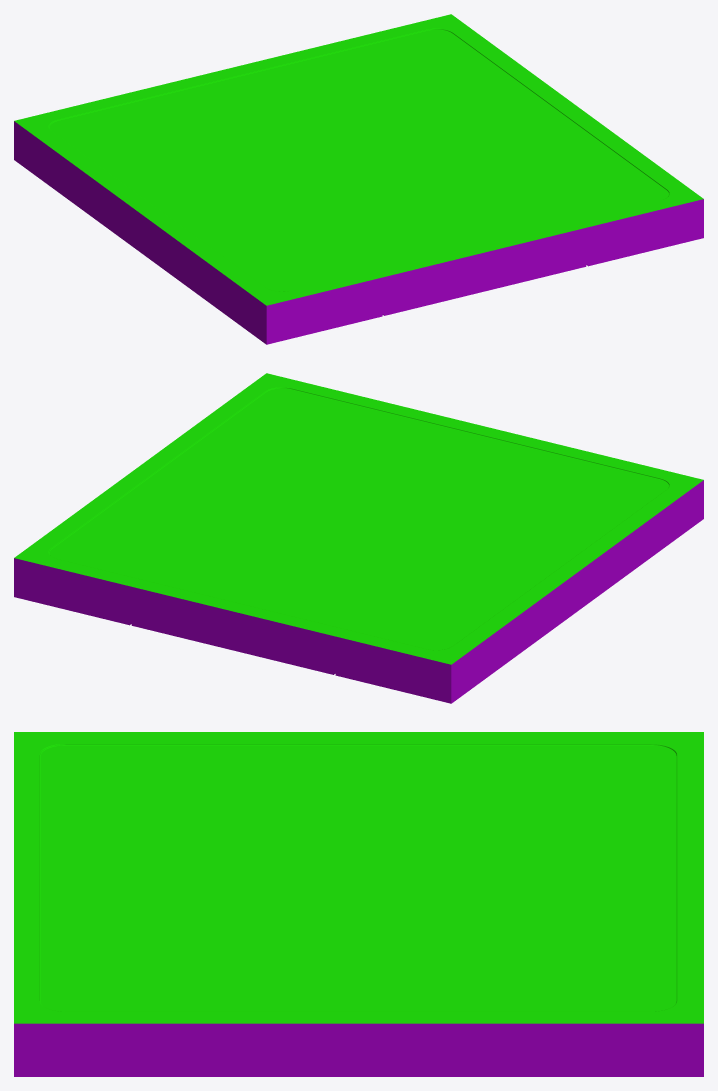
File: Floor03.fbx
3 views of the same model, one above another, from view 1: azimuth 30°, elevation 25°; view 2: azimuth 150°, elevation 25°; view 3: azimuth 270°, elevation 25° (orthographic). The views are drawn at different scales.
Parts seen in each view (by area): view 1: SM_Floor03; view 2: SM_Floor03; view 3: SM_Floor03.
Part boxes in pixels (box(x1,y1,x2,y2)): SM_Floor03: box(14, 14, 703, 344); SM_Floor03: box(14, 373, 703, 703); SM_Floor03: box(14, 732, 703, 1076).
Bounding box in the file's own units: 3.5 × 0.2983 × 3.5.
